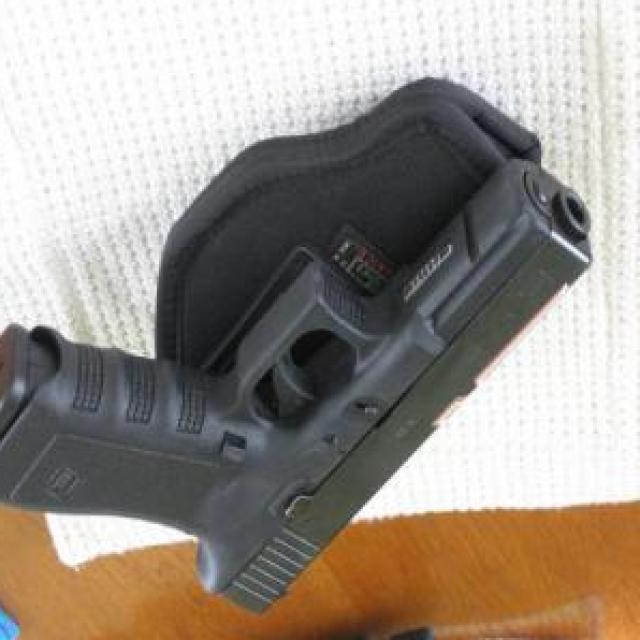pistol: (0, 159, 595, 614)
